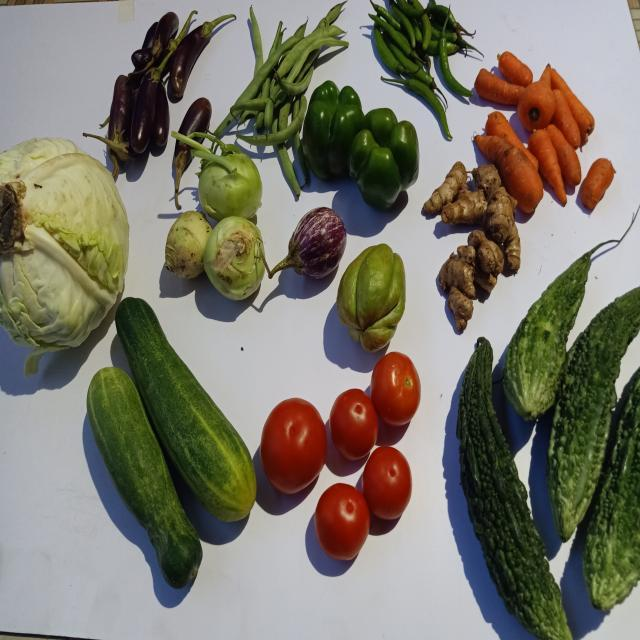Beans: (277, 24, 344, 77), (236, 95, 307, 145), (234, 45, 282, 105), (278, 142, 300, 196), (214, 109, 235, 134), (272, 109, 279, 132)
Bitter Gourd: (457, 337, 572, 640), (115, 297, 256, 522), (86, 367, 202, 589), (547, 287, 640, 542), (504, 248, 597, 420), (584, 368, 640, 611)
Brinjal: (130, 9, 196, 152), (169, 13, 235, 96), (106, 74, 133, 141), (151, 10, 179, 59), (173, 139, 192, 207), (178, 96, 211, 135), (151, 78, 169, 146)
Cabbage: (0, 138, 128, 373)
Capsicum: (348, 105, 423, 213), (302, 80, 365, 178)
Carrot: (475, 134, 544, 212), (552, 67, 596, 144), (485, 110, 540, 169), (529, 128, 568, 204), (518, 62, 556, 132), (546, 123, 583, 186), (551, 88, 582, 148), (475, 67, 525, 104), (582, 157, 617, 209), (499, 50, 533, 86)
Chayote: (337, 243, 406, 352)
Eggplant: (268, 207, 346, 278)
Ginger: (483, 186, 521, 272), (423, 160, 468, 213), (468, 229, 504, 277), (439, 253, 476, 299), (442, 189, 489, 224), (448, 286, 474, 330), (472, 163, 502, 201), (475, 262, 497, 292), (458, 245, 477, 266)
Green Chilly: (381, 75, 453, 138), (369, 13, 420, 59), (439, 33, 473, 96), (383, 31, 420, 72), (374, 26, 405, 73), (390, 0, 416, 47), (396, 0, 425, 17), (427, 2, 449, 24), (420, 12, 432, 51), (447, 11, 458, 29)
Tomato: (260, 398, 327, 494), (315, 484, 370, 561), (371, 352, 421, 426), (363, 447, 412, 520), (329, 388, 378, 460), (351, 413, 354, 414)
Turnip: (203, 215, 267, 299), (198, 151, 262, 220), (164, 210, 212, 278)
